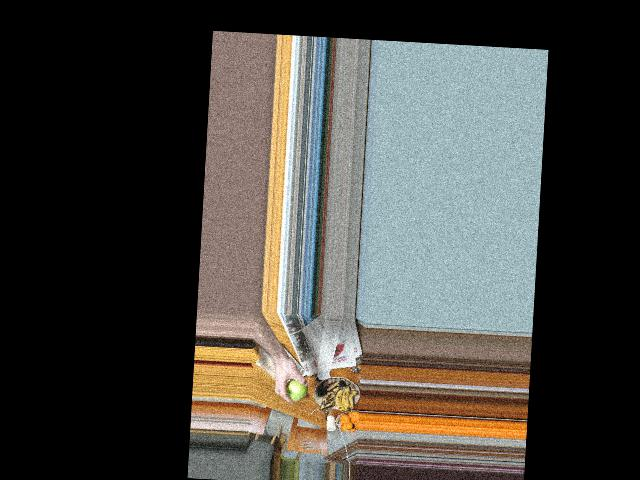apple: (285, 377, 306, 403)
